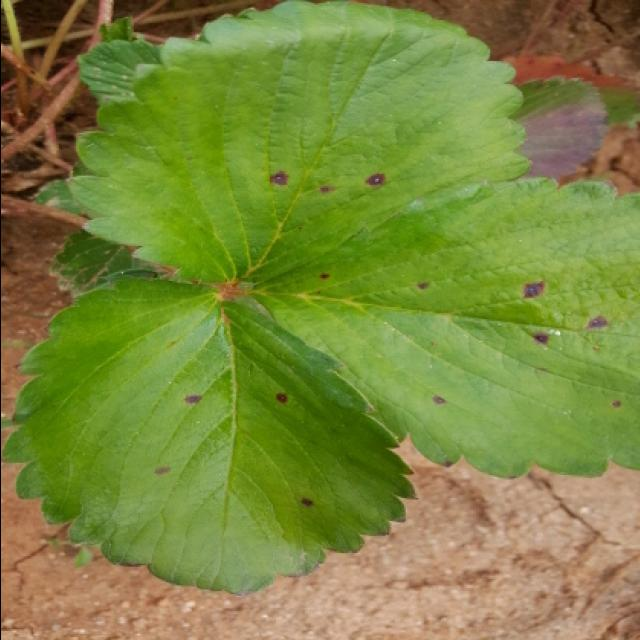Leaf Spot: (66, 0, 531, 290), (2, 271, 418, 595), (239, 174, 640, 481)
